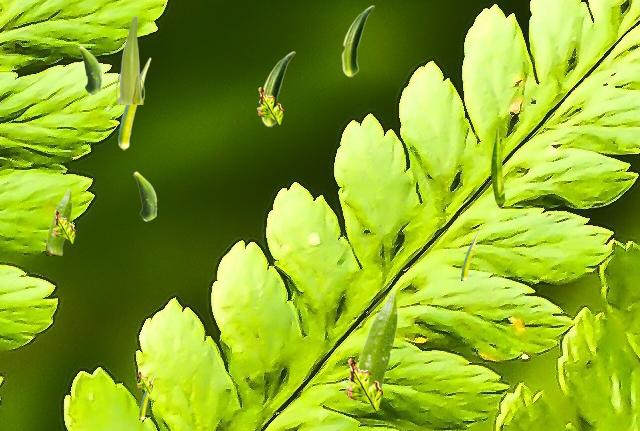okra: (357, 291, 397, 396), (118, 57, 150, 149), (260, 51, 294, 126), (115, 15, 143, 103), (341, 5, 373, 76), (46, 188, 71, 254), (78, 45, 101, 94), (133, 171, 156, 220), (491, 127, 504, 206), (461, 230, 478, 279), (139, 373, 154, 418)
